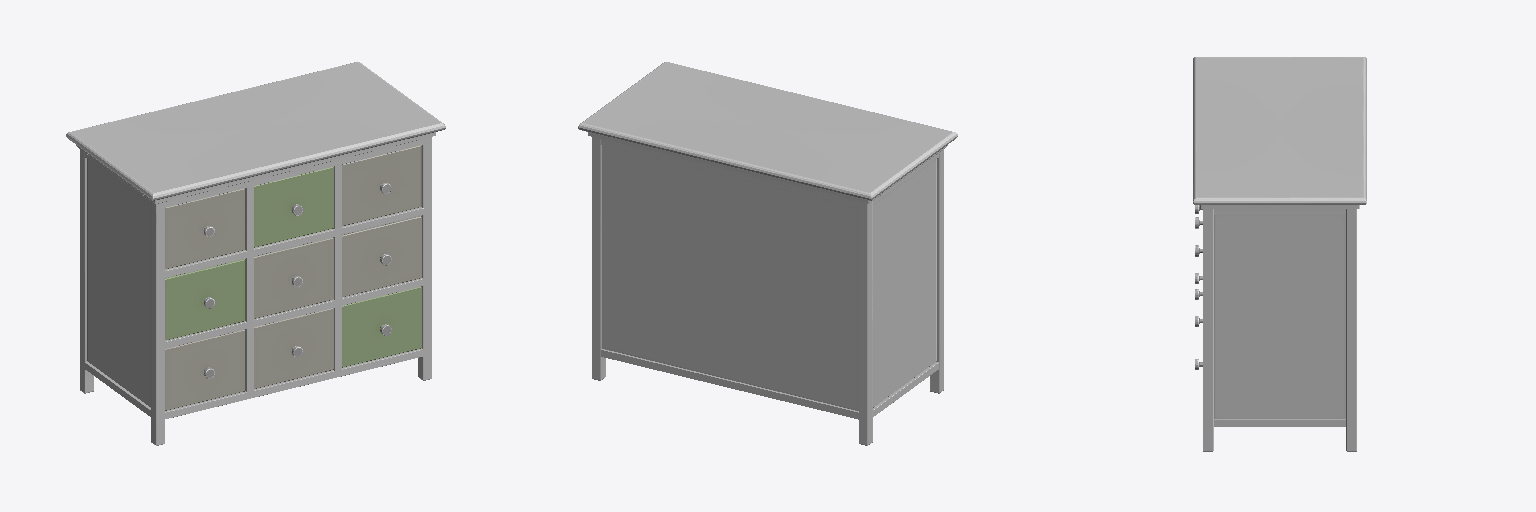
3 renders of one model, left to right at view 1: azimuth 30°, elevation 25°; view 2: azimuth 150°, elevation 25°; view 3: azimuth 270°, elevation 25°, orthographic.
Visible parts, largest first — view 1: solid_003, solid_004, solid_002, solid_001; view 2: solid_003; view 3: solid_003.
Boxes of the visible parts, x1,y1,x2,y2 form: solid_003: [66, 62, 445, 445]; solid_004: [165, 145, 421, 410]; solid_002: [165, 167, 421, 367]; solid_001: [204, 183, 391, 378]; solid_003: [578, 62, 957, 445]; solid_003: [1193, 57, 1366, 451].
Bounding box in the file's own units: 1.5 × 1.25 × 0.7688.
1 materials, 1 textured.